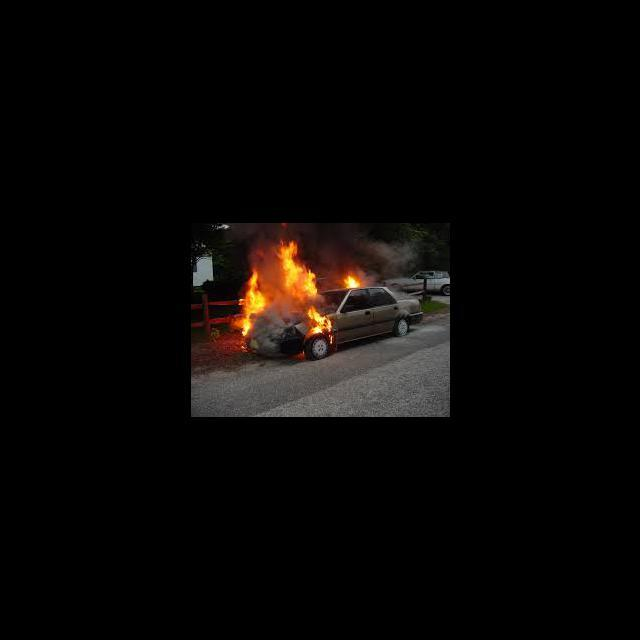Fire: (281, 240, 320, 294), (236, 272, 263, 337), (306, 306, 336, 337), (346, 274, 360, 288)
Smoke: (322, 226, 399, 272), (262, 297, 300, 342), (243, 226, 274, 266)
